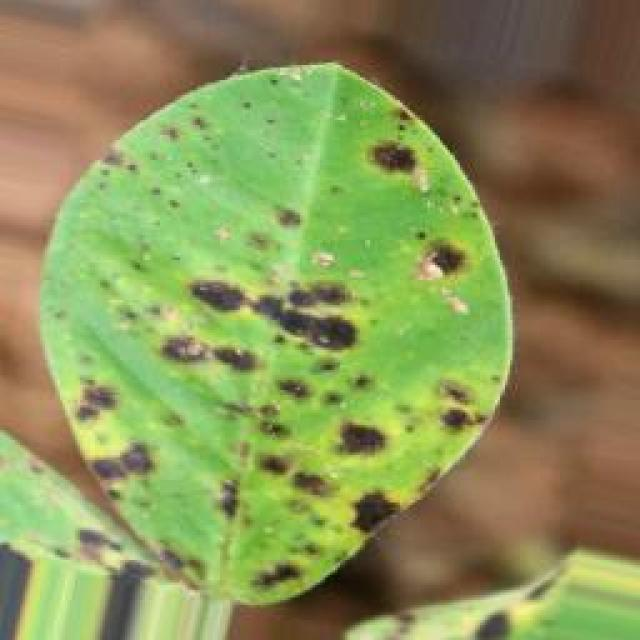Yellowish: (0, 28, 543, 624)
